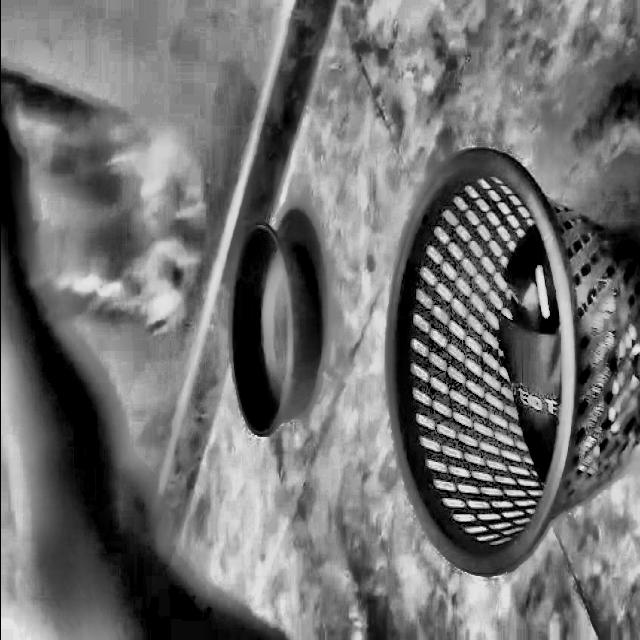Empty: (391, 148, 563, 555)
